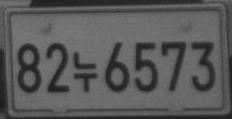2: (45, 41, 69, 93)
3: (190, 40, 216, 92)
5: (134, 41, 158, 92)
6: (103, 41, 130, 92)
7: (160, 40, 187, 92)
8: (16, 41, 42, 93)
누: (72, 51, 98, 92)
